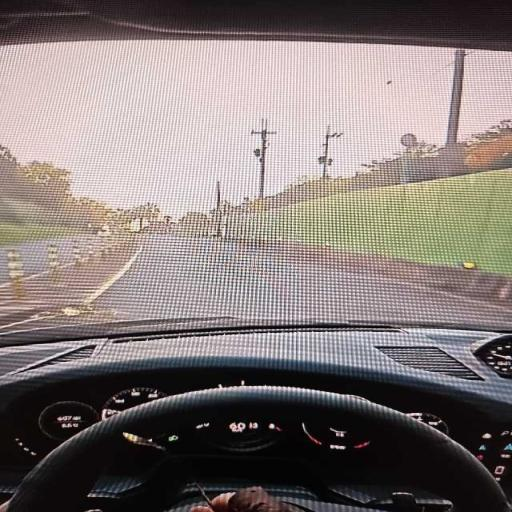car: (0, 0, 511, 511)
lane: (96, 236, 511, 328), (0, 235, 99, 284)
